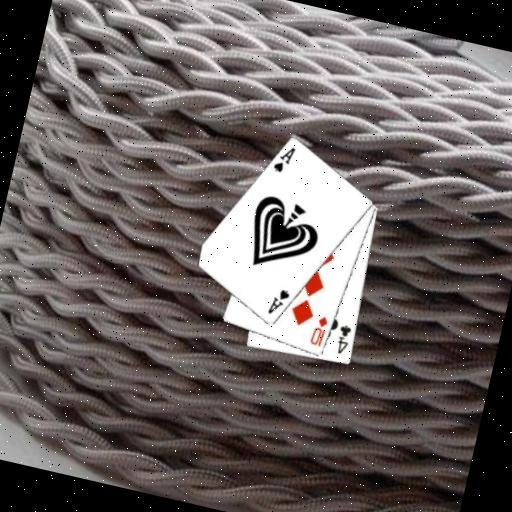10D: (307, 312, 331, 349)
4C: (331, 320, 354, 357)
AS: (269, 140, 298, 177), (265, 284, 293, 319)
